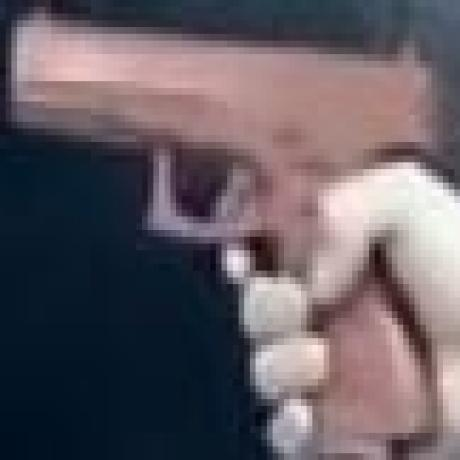weapon: (6, 4, 444, 454)
